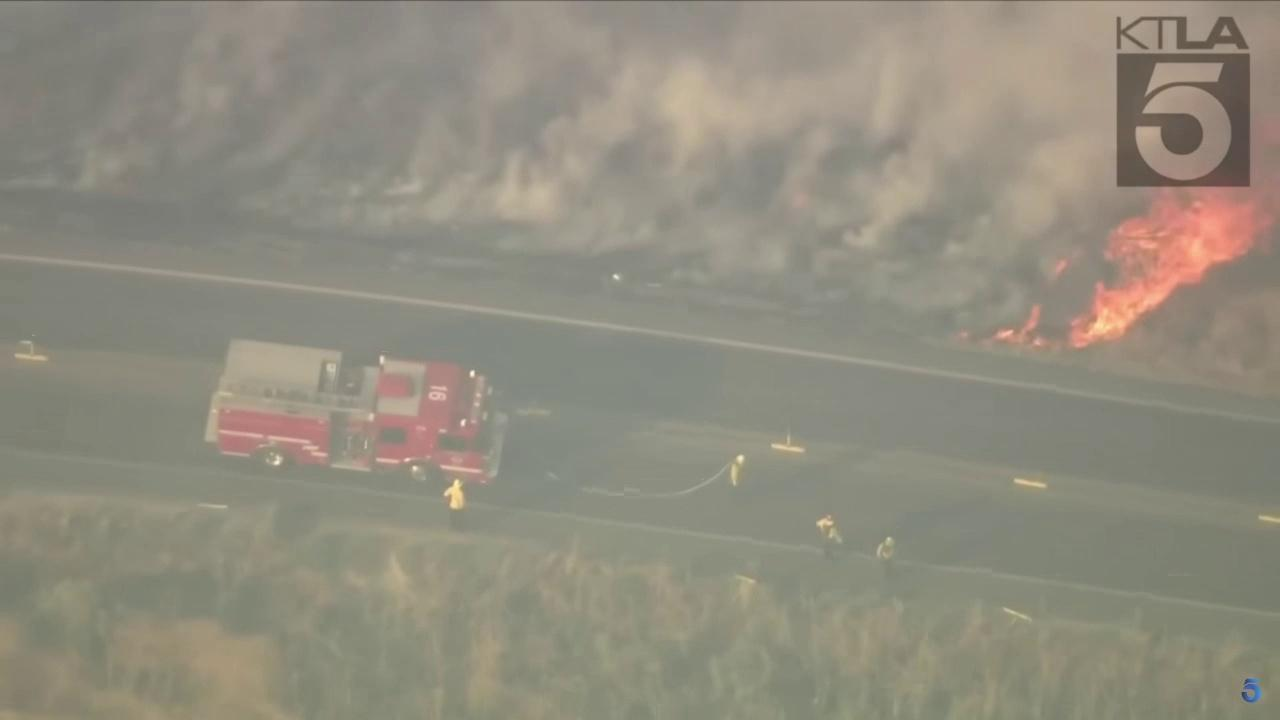fire: (980, 186, 1280, 352), (953, 330, 969, 342)
smoke: (0, 0, 1115, 346)
